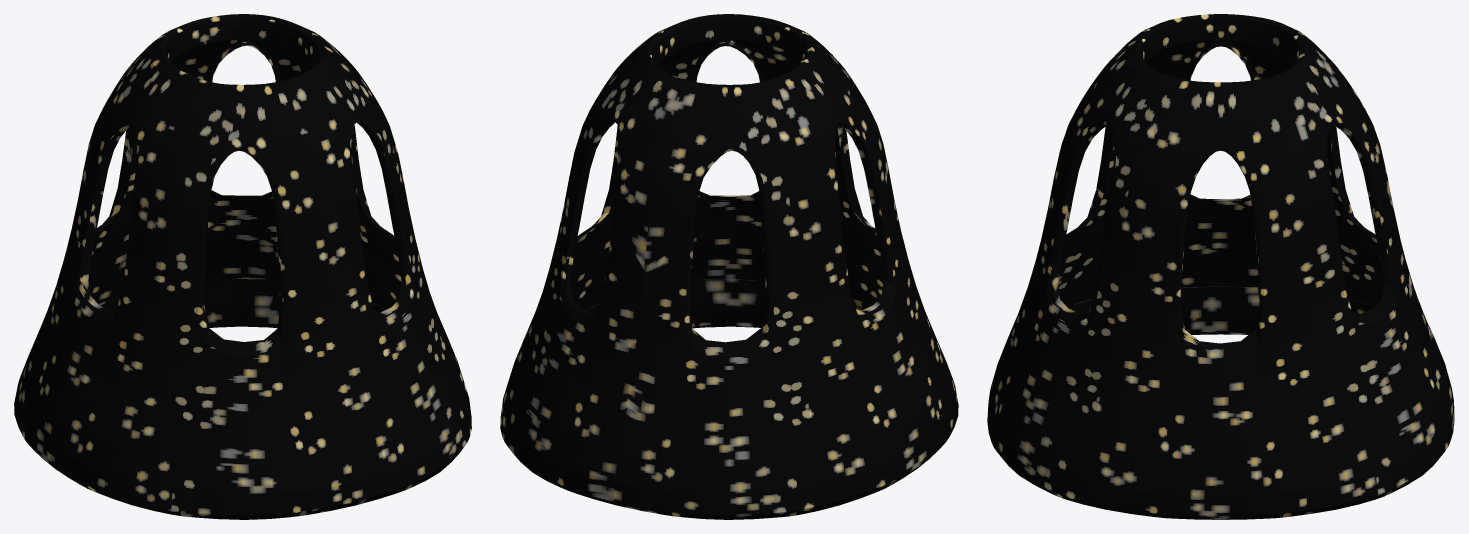
Rendered from BILLIE_03.glb.
3 views of the same model, side by side, from view 1: azimuth 30°, elevation 25°; view 2: azimuth 150°, elevation 25°; view 3: azimuth 270°, elevation 25° (orthographic).
Bounding box in the file's own units: 0.1149 × 0.1065 × 0.119.
Materials: 1 (1 with a texture image).
